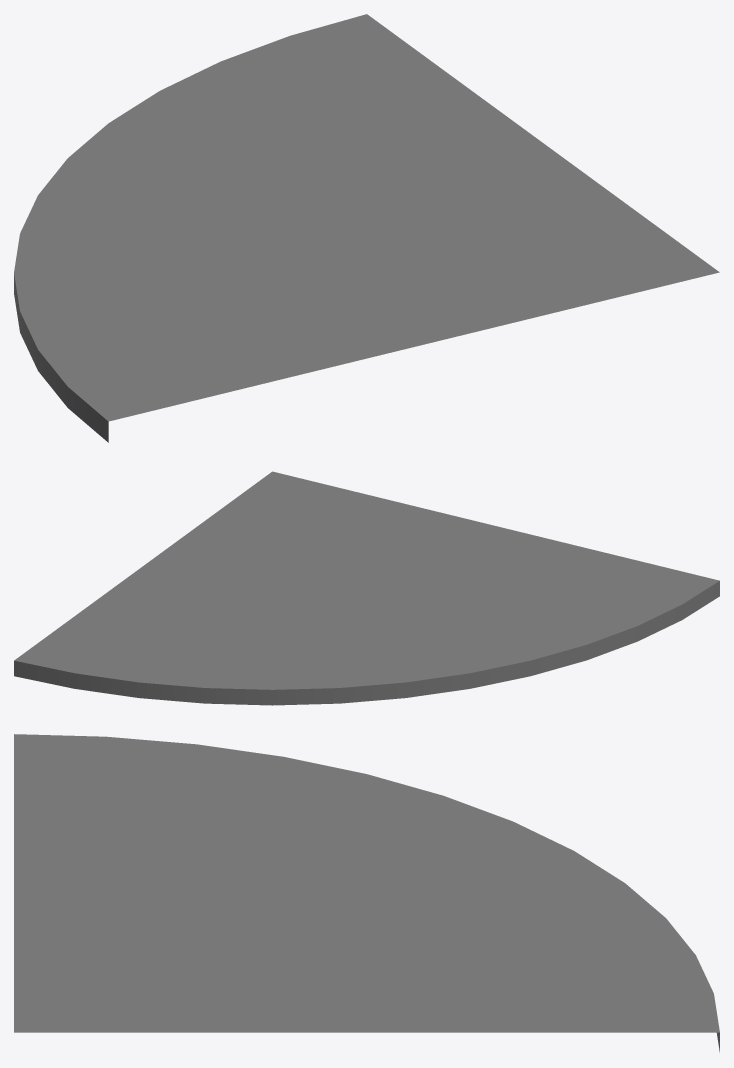
File: q-scifi-mod-bottommetal-corner-square-outer-1.glb
3 views of the same model, one above another, from view 1: azimuth 30°, elevation 25°; view 2: azimuth 150°, elevation 25°; view 3: azimuth 270°, elevation 25° (orthographic). The views are drawn at different scales.
Visible parts, largest first — view 1: BottomMetal_Corner_Square_Outer_1; view 2: BottomMetal_Corner_Square_Outer_1; view 3: BottomMetal_Corner_Square_Outer_1.
Boxes of the visible parts, box(x1,y1,x2,y2) form: BottomMetal_Corner_Square_Outer_1: box(14, 14, 719, 442); BottomMetal_Corner_Square_Outer_1: box(14, 471, 719, 705); BottomMetal_Corner_Square_Outer_1: box(14, 734, 719, 1052).
Size of the model in its own units: 0.6 by 0.02 by 0.6.
Materials: 2 (2 with a texture image).
